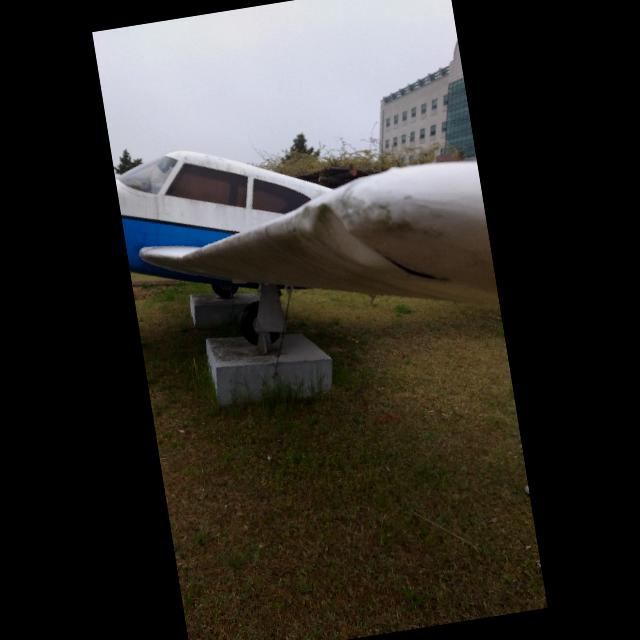dent: (296, 192, 392, 254)
